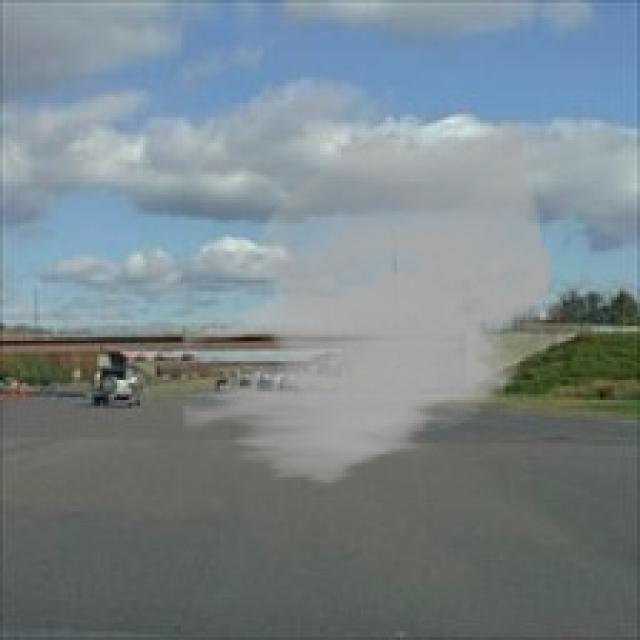smoke: (180, 117, 554, 489)
